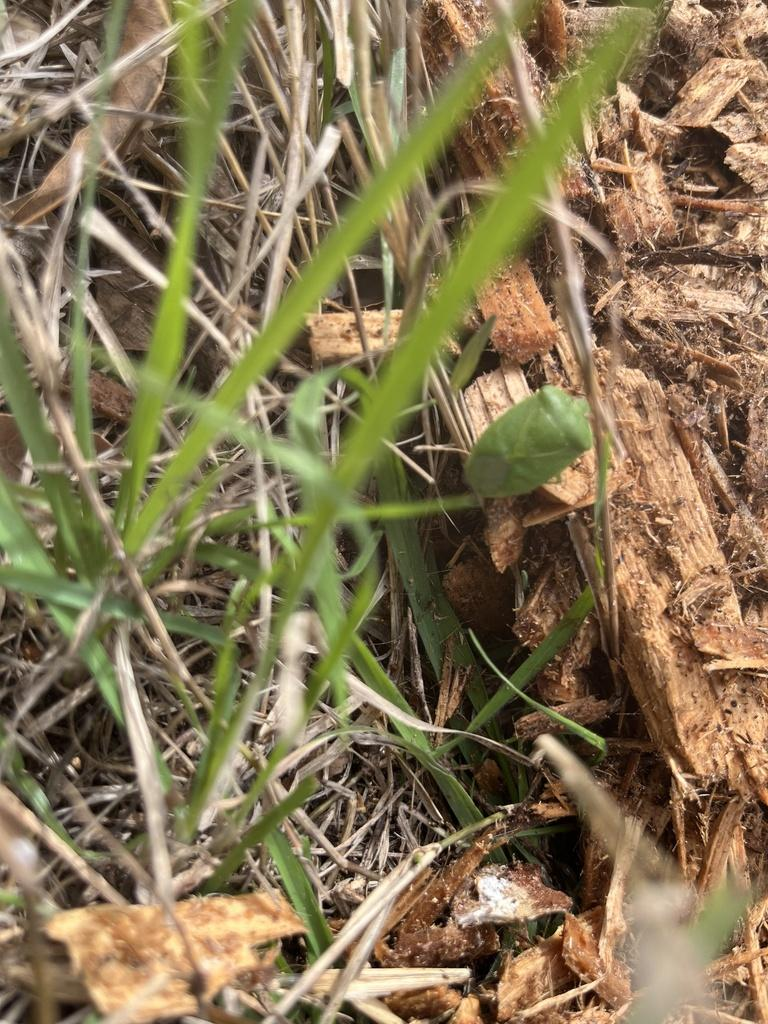stink_bugs: (422, 344, 631, 546)
